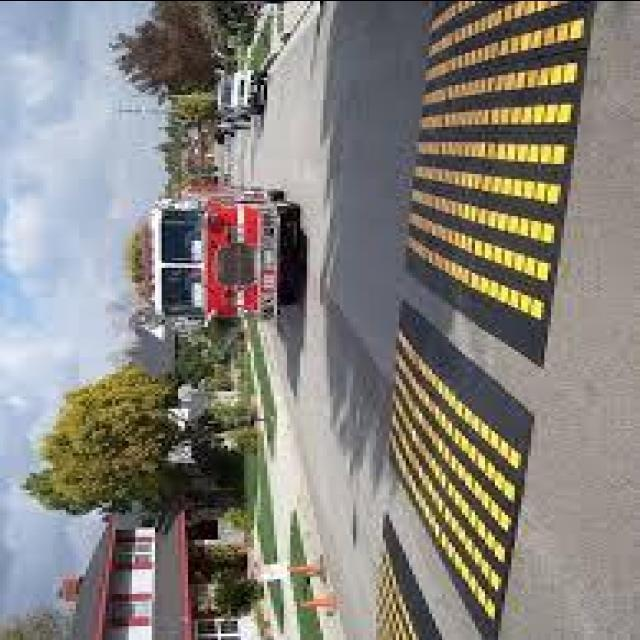speedbreaker: (368, 0, 606, 640)
